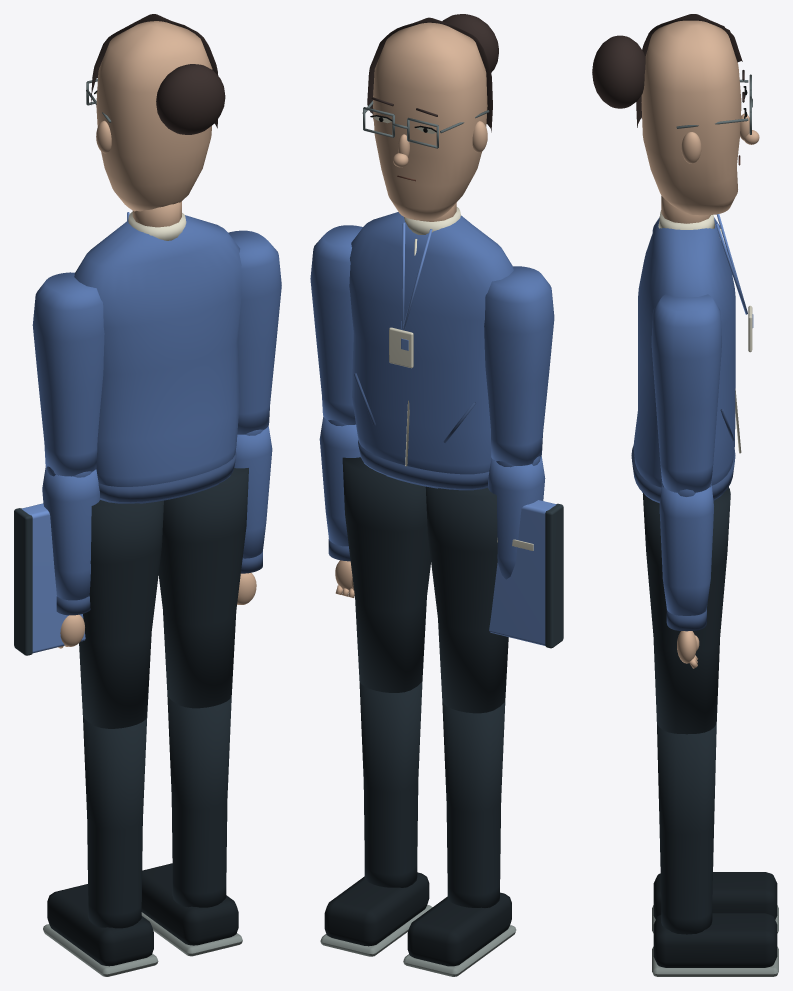
File: npc_library.glb
3 views of the same model, side by side, from view 1: azimuth 30°, elevation 25°; view 2: azimuth 150°, elevation 25°; view 3: azimuth 270°, elevation 25° (orthographic). The views are drawn at different scales.
Visible parts, largest first — view 1: QuietClothTorso, TrouserThigh.001, TrouserThigh, AdultFace, Sleeve, Knee.001, Knee, Sleeve.001, ElbowTransition, Eyebrow, OrdinaryShoe, OrdinaryShoe.001 (+9 smaller); view 2: QuietClothTorso, AdultFace, TrouserThigh.001, TrouserThigh, Sleeve, Knee.001, Knee, Sleeve.001, BookCover, OrdinaryShoe.001, OrdinaryShoe, ElbowTransition (+10 smaller); view 3: AdultFace, QuietClothTorso, Sleeve.001, Knee.001, TrouserThigh.001, ElbowTransition.001, OrdinaryShoe.001, Eyebrow, OrdinaryShoe, ShoeSole.001, Hem, IDCard (+4 smaller).
Part boxes in pixels (box(x1,y1,x2,y2)): QuietClothTorso: box(74, 215, 241, 503); TrouserThigh.001: box(158, 468, 248, 708); TrouserThigh: box(79, 500, 163, 728); AdultFace: box(96, 21, 212, 211); Sleeve: box(32, 272, 104, 476); Knee.001: box(167, 694, 231, 907); Knee: box(83, 716, 147, 928); Sleeve.001: box(228, 230, 281, 434); ElbowTransition: box(42, 466, 100, 600); Eyebrow: box(91, 14, 225, 134); OrdinaryShoe: box(47, 884, 153, 966); OrdinaryShoe.001: box(141, 863, 238, 945); QuietClothTorso: box(349, 212, 513, 490); AdultFace: box(372, 22, 487, 220); TrouserThigh.001: box(342, 457, 430, 692); TrouserThigh: box(425, 486, 508, 713); Sleeve: box(484, 266, 554, 465); Knee.001: box(359, 680, 422, 887); Knee: box(442, 700, 505, 907); Sleeve.001: box(310, 225, 362, 424); BookCover: box(489, 500, 556, 645); OrdinaryShoe.001: box(324, 872, 429, 946); OrdinaryShoe: box(407, 892, 511, 966); ElbowTransition: box(488, 456, 545, 579); AdultFace: box(641, 20, 759, 215); QuietClothTorso: box(633, 219, 735, 503); Sleeve.001: box(651, 294, 721, 492); Knee.001: box(657, 723, 716, 934); TrouserThigh.001: box(643, 487, 730, 734); ElbowTransition.001: box(659, 480, 713, 615); OrdinaryShoe.001: box(653, 913, 777, 967); Eyebrow: box(592, 14, 744, 127); OrdinaryShoe: box(653, 872, 777, 919); ShoeSole.001: box(652, 946, 778, 976); Hem: box(631, 409, 735, 501); IDCard: box(658, 210, 752, 453).
Bounding box in the file's own units: 0.434 × 1.54 × 0.28.
